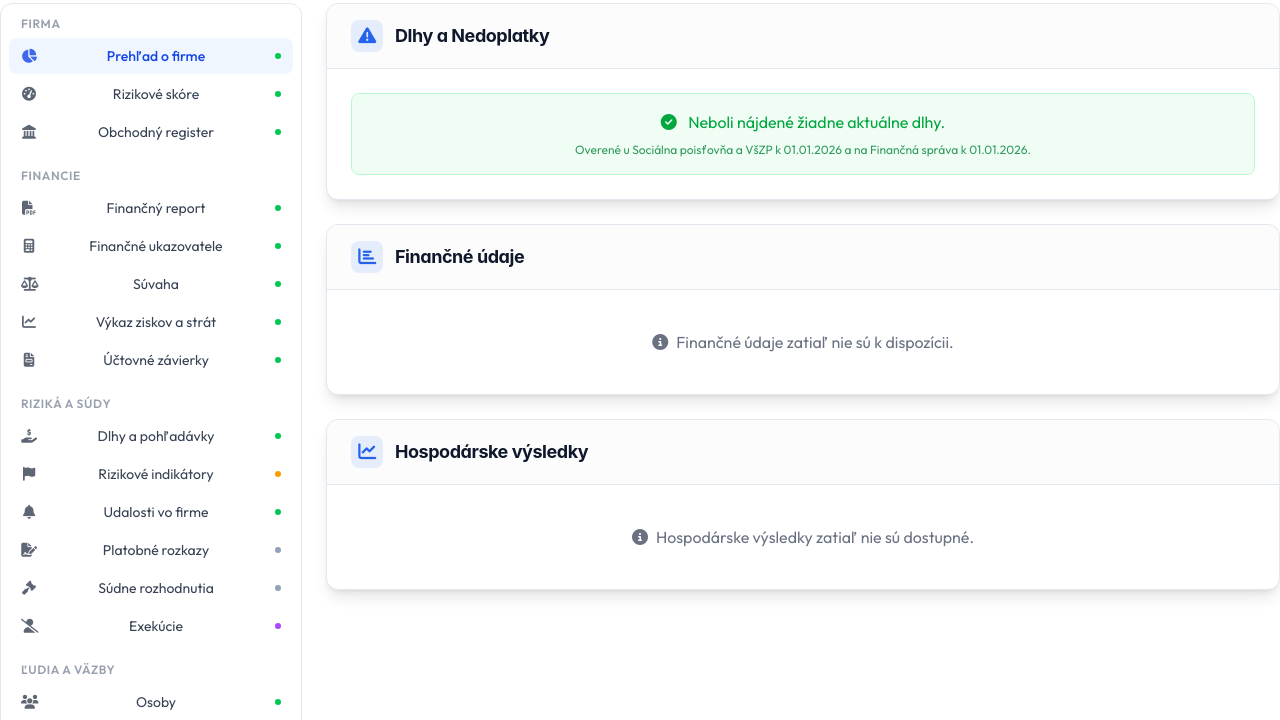
Scenario: CompanyDetail › renders the body of a section that has one instead of its note
(page scrolled)
Click the button "Účtovné závierky". click: {"x": 151, "y": 360}
box: [9, 342, 293, 378]
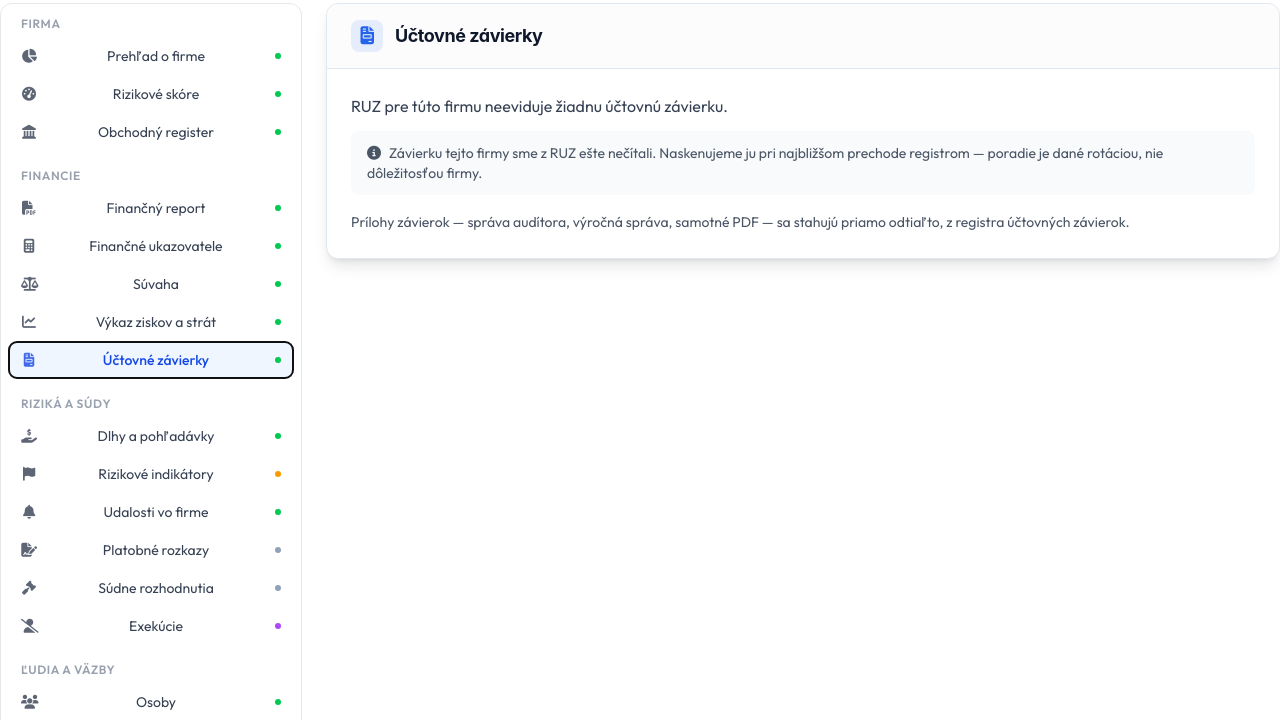
Expected: the text "stahujú priamo odtiaľto, z registra účtovných závierok" is shown, [351, 213, 1130, 231]
